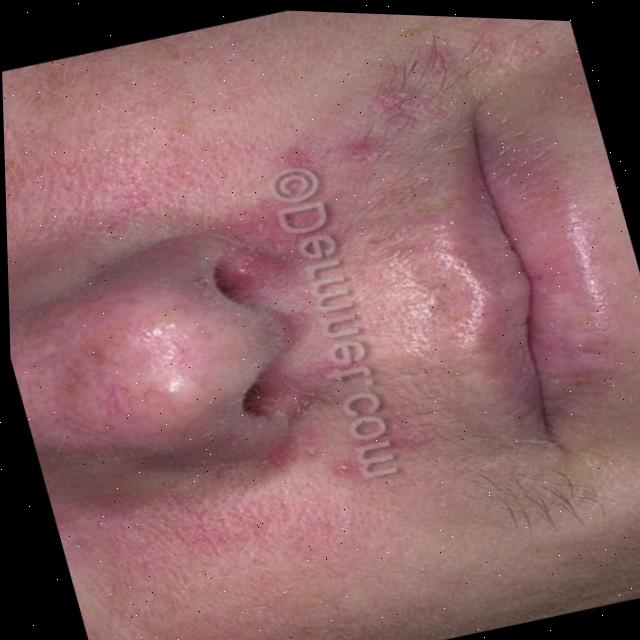Rosacea: (45, 417, 377, 636), (211, 147, 408, 503), (2, 83, 251, 280), (8, 258, 230, 468)
